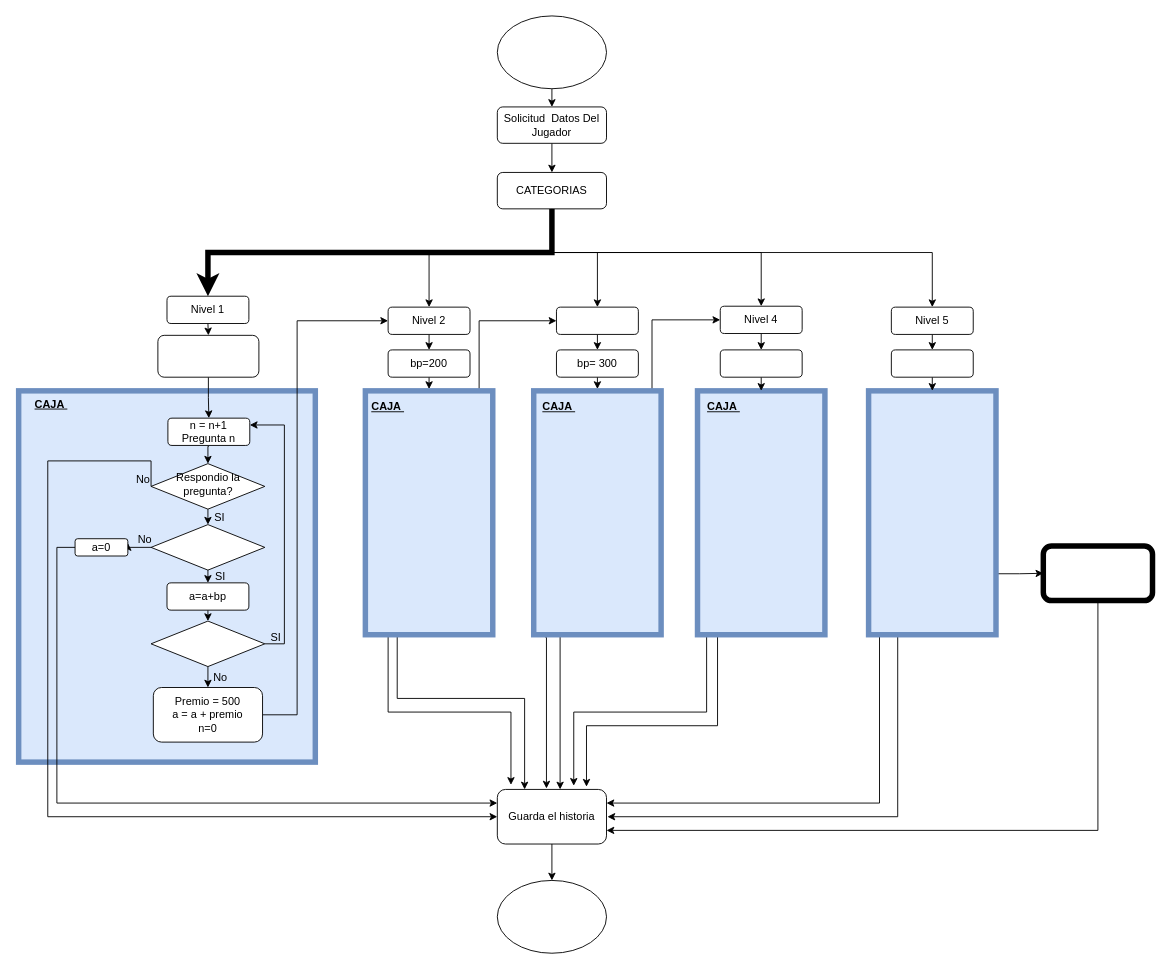
This 1170x969 diagram has some shape labels left out. Each missing label, with the centre of its shape:
"bp=400" goes at point (760, 363).
"bp=500" goes at point (931, 363).
"FELICITACIONES, HAS GANADO" goes at point (1097, 573).
"FIN" goes at point (551, 916).
"Gano?" goes at point (207, 547).
"INICIO" goes at point (551, 52).
"n<5" goes at point (207, 643).
"n=0 a=0 bp=100" goes at point (208, 355).
"Nivel 3" goes at point (597, 320).
